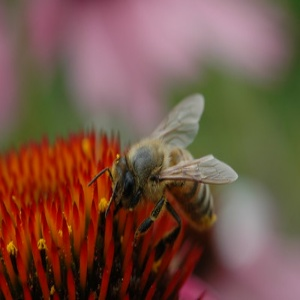bee: (100, 95, 243, 261)
